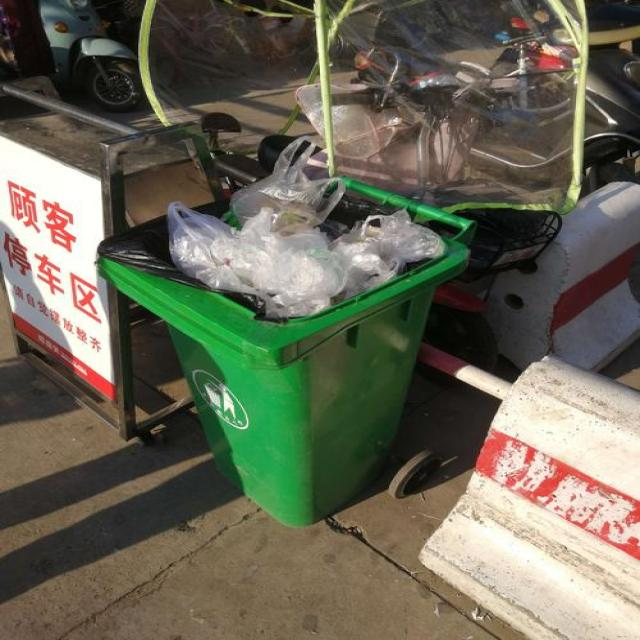overflow: (96, 133, 468, 524)
